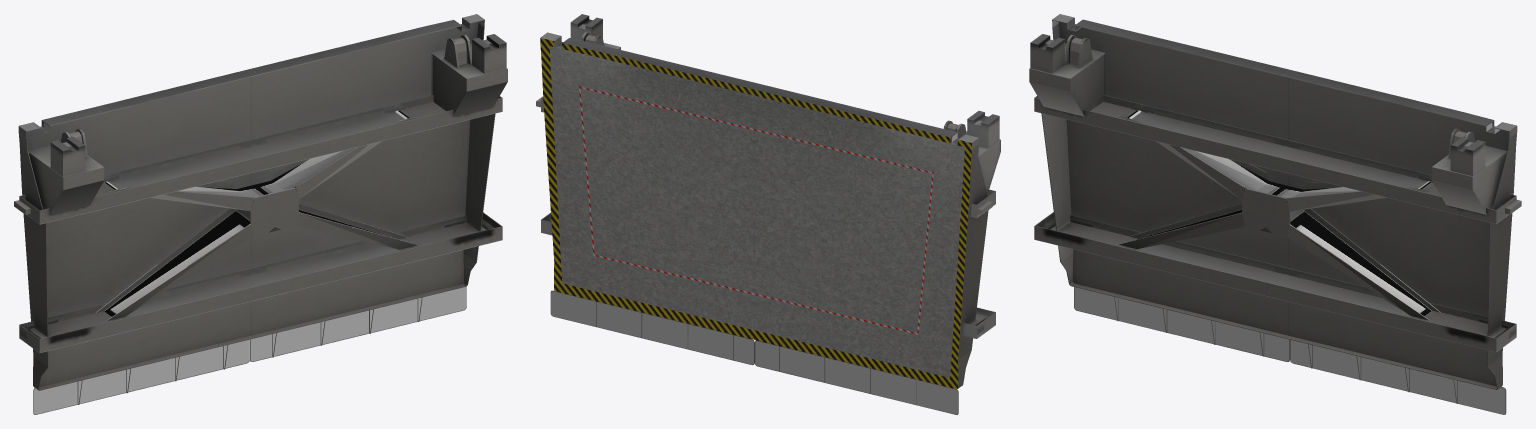
Rendered from AscenseurAvia.fbx.
3 views of the same model, side by side, from view 1: azimuth 30°, elevation 25°; view 2: azimuth 150°, elevation 25°; view 3: azimuth 330°, elevation 25° (orthographic). The views are drawn at different scales.
Visible parts, largest first — view 1: ShapeIndexedFaceSet, ShapeIndexedFaceSet_003; view 2: ShapeIndexedFaceSet, ShapeIndexedFaceSet_002, ShapeIndexedFaceSet_003, ShapeIndexedFaceSet_001; view 3: ShapeIndexedFaceSet, ShapeIndexedFaceSet_003.
Part boxes in pixels (x1,y1,x2,y2): ShapeIndexedFaceSet: (14, 14, 507, 414); ShapeIndexedFaceSet_003: (34, 287, 466, 414); ShapeIndexedFaceSet: (536, 14, 1000, 414); ShapeIndexedFaceSet_002: (540, 38, 971, 389); ShapeIndexedFaceSet_003: (551, 291, 957, 414); ShapeIndexedFaceSet_001: (578, 86, 933, 334); ShapeIndexedFaceSet: (1029, 14, 1521, 414); ShapeIndexedFaceSet_003: (1074, 287, 1505, 414).
Bounding box in the file's own units: 28.65 × 16.97 × 3.95.
